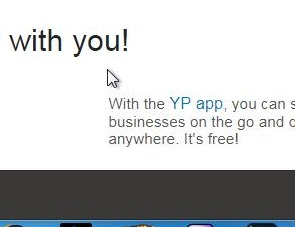cursor: (105, 67, 120, 89)
